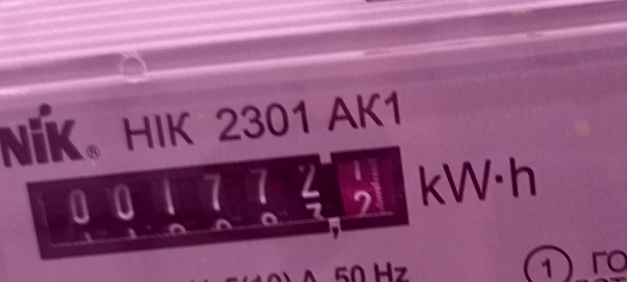0: (63, 183, 94, 225), (111, 179, 136, 220)
1: (159, 175, 178, 214), (350, 156, 365, 182)
2: (296, 161, 322, 199), (349, 186, 374, 216)
3: (304, 199, 327, 221)
7: (202, 169, 227, 212), (248, 165, 272, 205)
screen: (14, 132, 428, 271)
